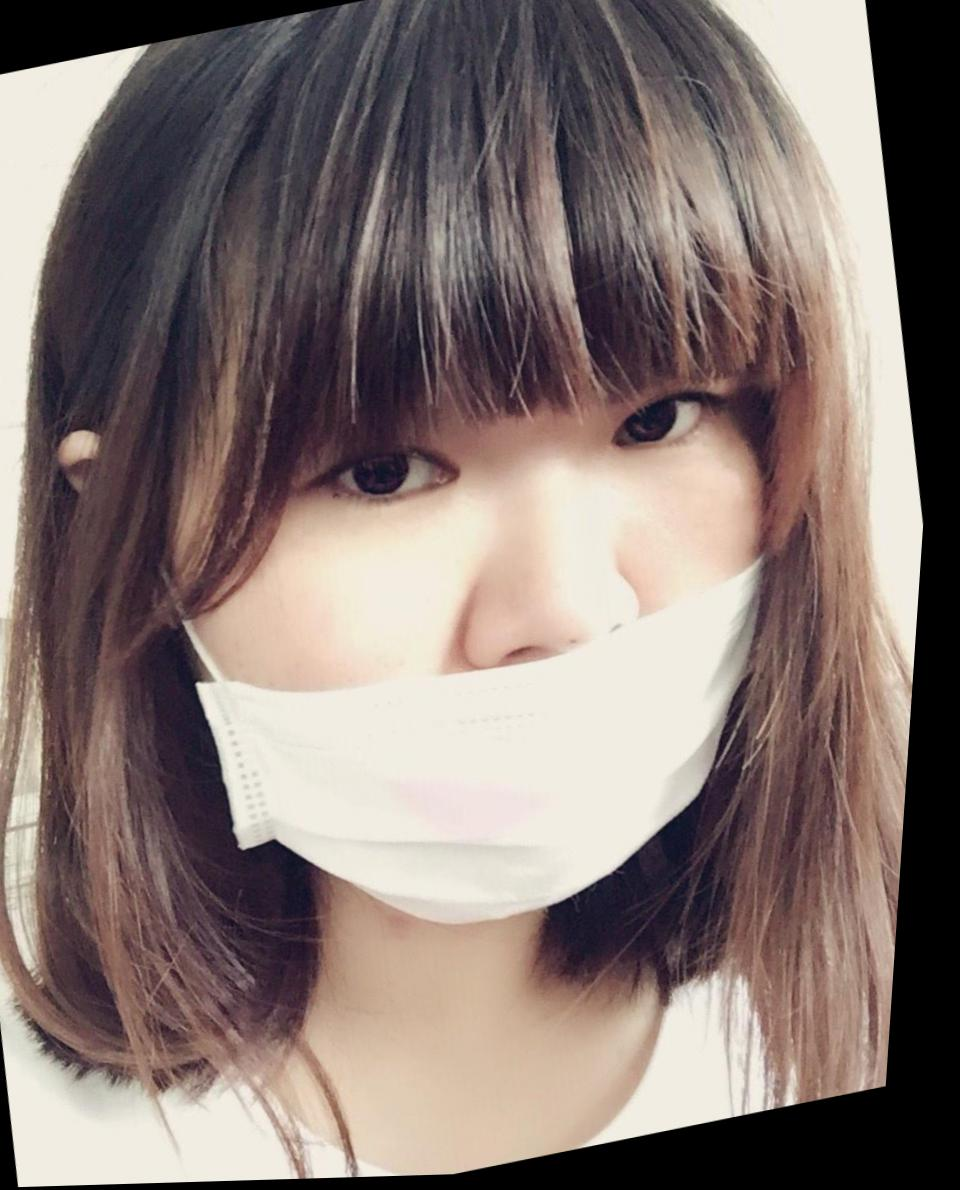WRONG: (108, 199, 917, 986)
